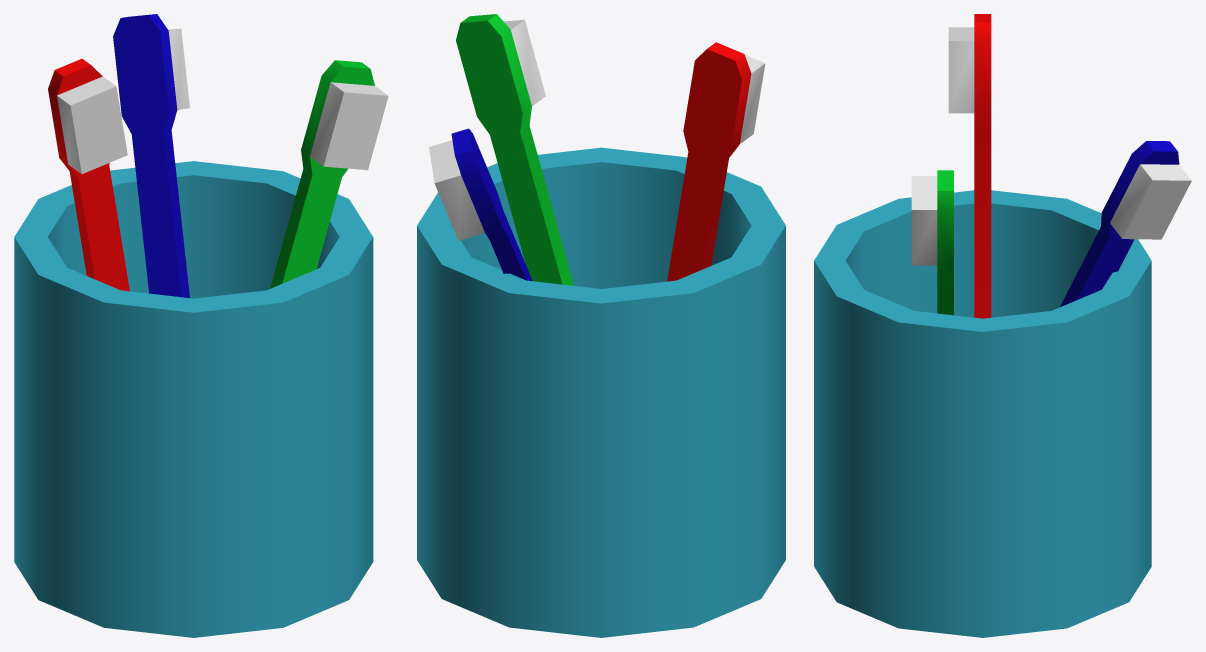
Rendered from wc_cepillosdientes.fbx.
3 views of the same model, side by side, from view 1: azimuth 30°, elevation 25°; view 2: azimuth 150°, elevation 25°; view 3: azimuth 270°, elevation 25° (orthographic). The views are drawn at different scales.
Visible parts, largest first — view 1: cepillosdientes; view 2: cepillosdientes; view 3: cepillosdientes.
Boxes of the visible parts, bbox=[...] form: cepillosdientes: bbox=[14, 14, 388, 637]; cepillosdientes: bbox=[417, 14, 785, 637]; cepillosdientes: bbox=[814, 14, 1191, 637].
Size of the model in its own units: 10.05 by 16.2 by 11.19.
